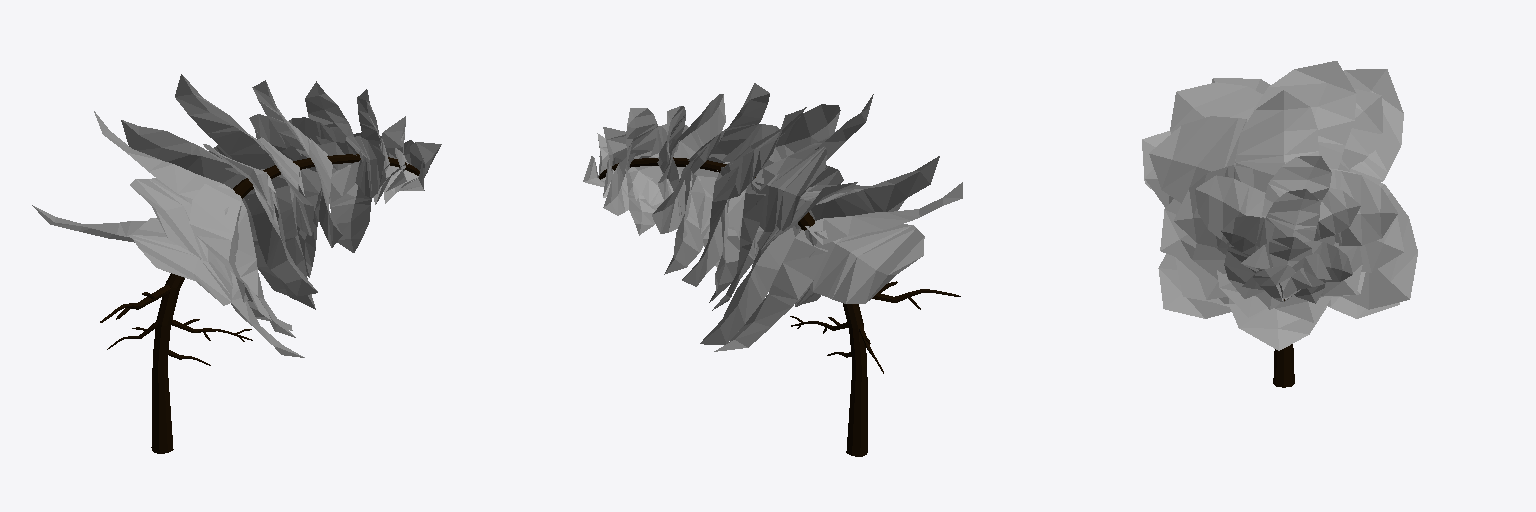
Rendered from PineTree_4.obj.
3 views of the same model, side by side, from view 1: azimuth 30°, elevation 25°; view 2: azimuth 150°, elevation 25°; view 3: azimuth 270°, elevation 25° (orthographic).
Visible parts, largest first — view 1: PineTree_4_Cube.014; view 2: PineTree_4_Cube.014; view 3: PineTree_4_Cube.014.
Boxes of the visible parts, <box> form: PineTree_4_Cube.014: <box>32,74,441,453</box>; PineTree_4_Cube.014: <box>583,83,962,456</box>; PineTree_4_Cube.014: <box>1142,61,1417,387</box>.
Bounding box in the file's own units: 4.84 × 4.48 × 3.25.